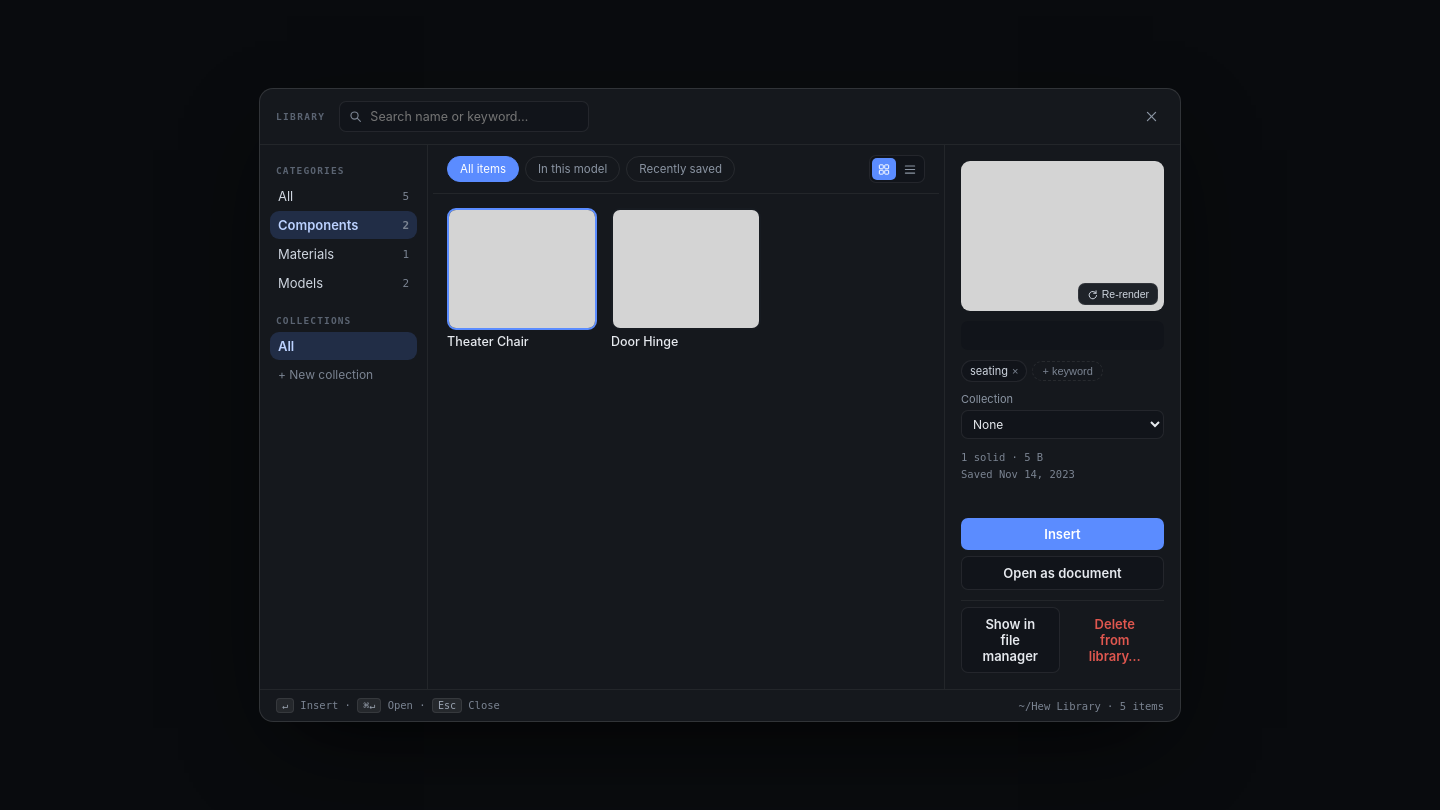
Scenario: LibraryDialog › shows an empty-search state distinct from the empty-library state
The image size is (1440, 810).
Expected: the text "Theater Chair" is shown, [447,334,529,349]
Expected: the element with class "hwlib__detail" is shown, [944,145,1180,689]
Type "nonexistent-xyz" into the field with placeholder "Search name or keyword…" at coordinates (474, 116), box [368,108,579,125]
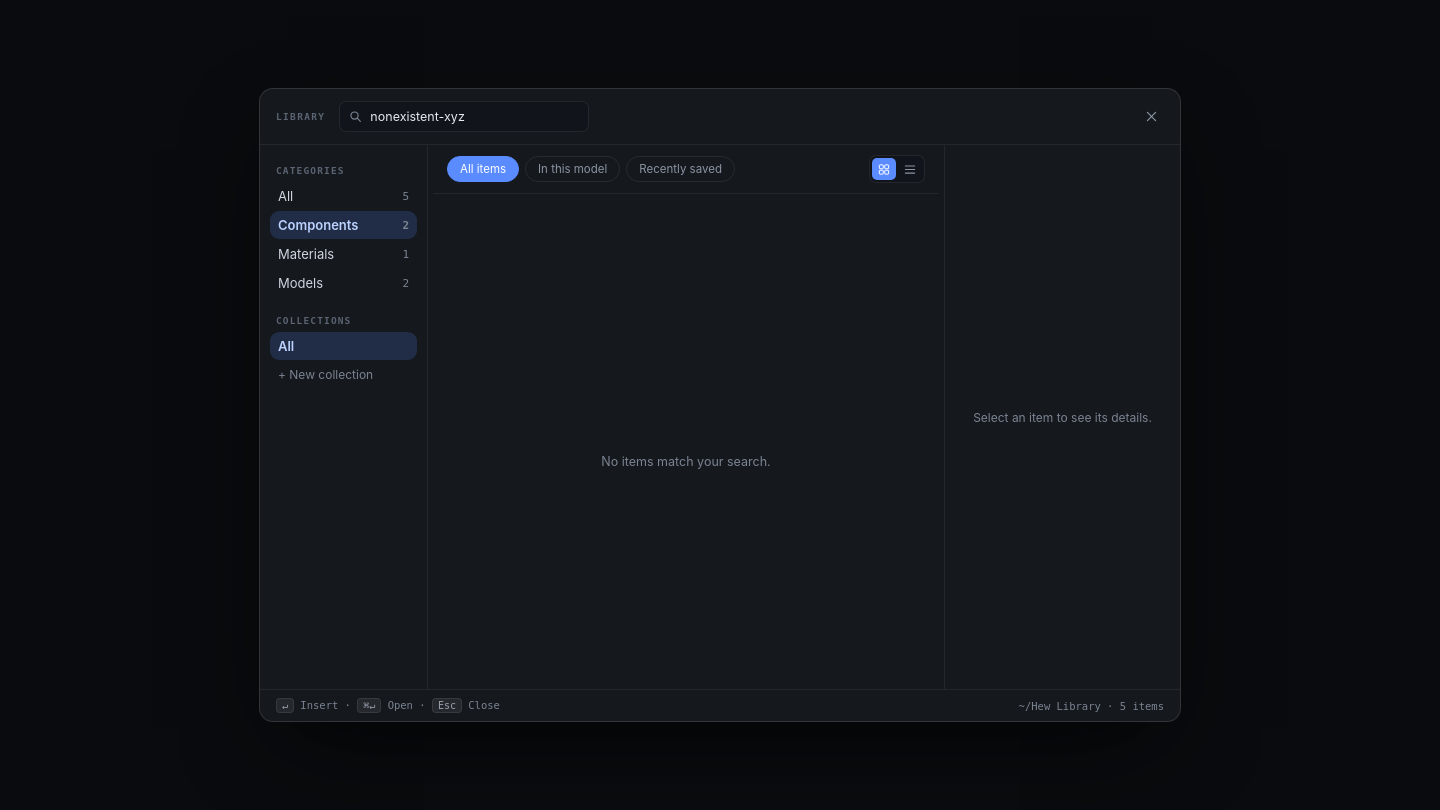
Result: the text "No items match your search." is shown at [601,454,771,469]
